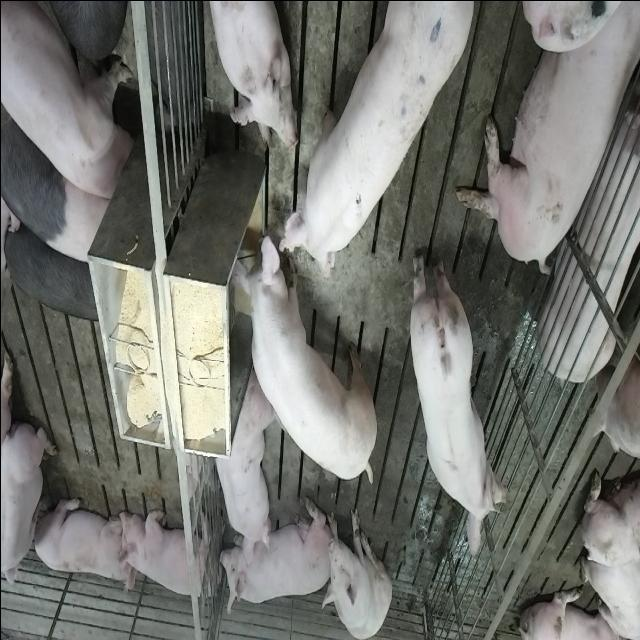Lateral_lying: (453, 4, 636, 278), (537, 79, 640, 383)
Sitting: (322, 504, 391, 637)
Standing: (274, 5, 477, 283), (232, 224, 378, 480), (408, 242, 509, 560), (2, 0, 135, 203), (2, 101, 113, 265), (7, 218, 99, 326)
Sternal_lying: (203, 0, 293, 150), (218, 501, 328, 615), (210, 367, 271, 554), (116, 501, 214, 603), (2, 418, 56, 598), (31, 491, 130, 589)
